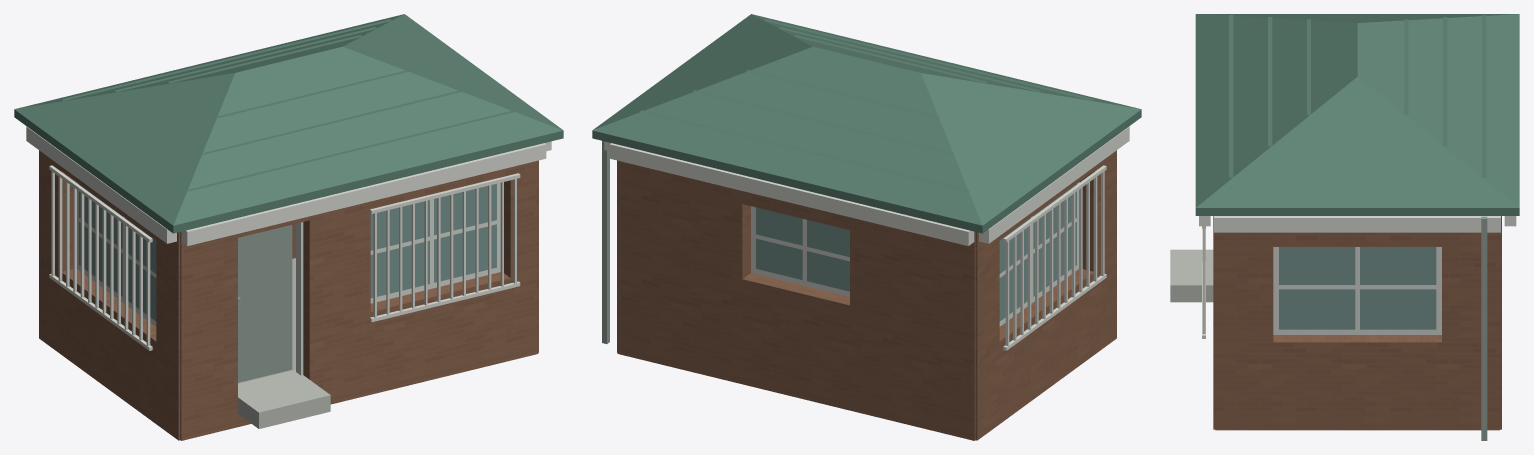
3 views of the same model, side by side, from view 1: azimuth 30°, elevation 25°; view 2: azimuth 150°, elevation 25°; view 3: azimuth 270°, elevation 25° (orthographic).
Parts seen in each view (by area): view 1: guard__roof, guard__brick, guard__bars, guard__glass, guard__white, guard__door, guard__threshold-entry, guard__frame, guard__floor-structure; view 2: guard__brick, guard__roof, guard__glass, guard__white, guard__bars, guard__frame, guard__metal; view 3: guard__roof, guard__brick, guard__glass, guard__white, guard__frame, guard__threshold-entry, guard__metal, guard__bars.
Boxes of the visible parts, <box> form: guard__roof: <box>14,14,563,233</box>; guard__brick: <box>39,150,538,440</box>; guard__bars: <box>49,165,520,350</box>; guard__glass: <box>79,183,496,321</box>; guard__white: <box>26,126,551,245</box>; guard__door: <box>238,225,292,382</box>; guard__threshold-entry: <box>238,369,330,428</box>; guard__frame: <box>76,182,500,375</box>; guard__floor-structure: <box>238,258,295,383</box>; guard__brick: <box>617,150,1116,440</box>; guard__roof: <box>592,14,1141,233</box>; guard__glass: <box>756,184,1076,321</box>; guard__white: <box>604,126,1129,245</box>; guard__bars: <box>1003,165,1106,350</box>; guard__frame: <box>751,182,1079,326</box>; guard__metal: <box>602,141,609,343</box>; guard__roof: <box>1195,14,1519,215</box>; guard__brick: <box>1213,216,1501,430</box>; guard__glass: <box>1279,247,1436,329</box>; guard__white: <box>1199,216,1516,232</box>; guard__frame: <box>1273,247,1441,334</box>; guard__threshold-entry: <box>1170,249,1213,302</box>; guard__metal: <box>1481,216,1487,440</box>; guard__bars: <box>1202,226,1205,338</box>.
Bounding box in the file's own units: 5.53 × 3.81 × 4.14.
10 materials, 1 textured.
